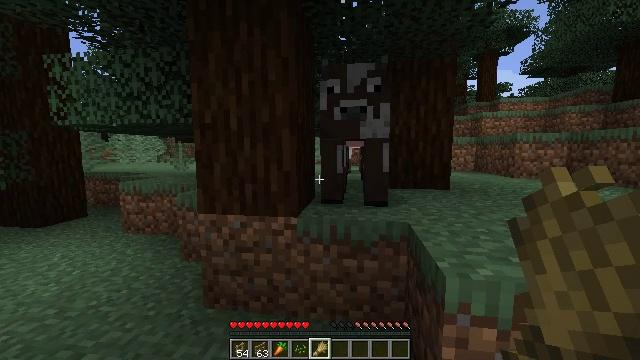cow: (322, 60, 389, 207)
